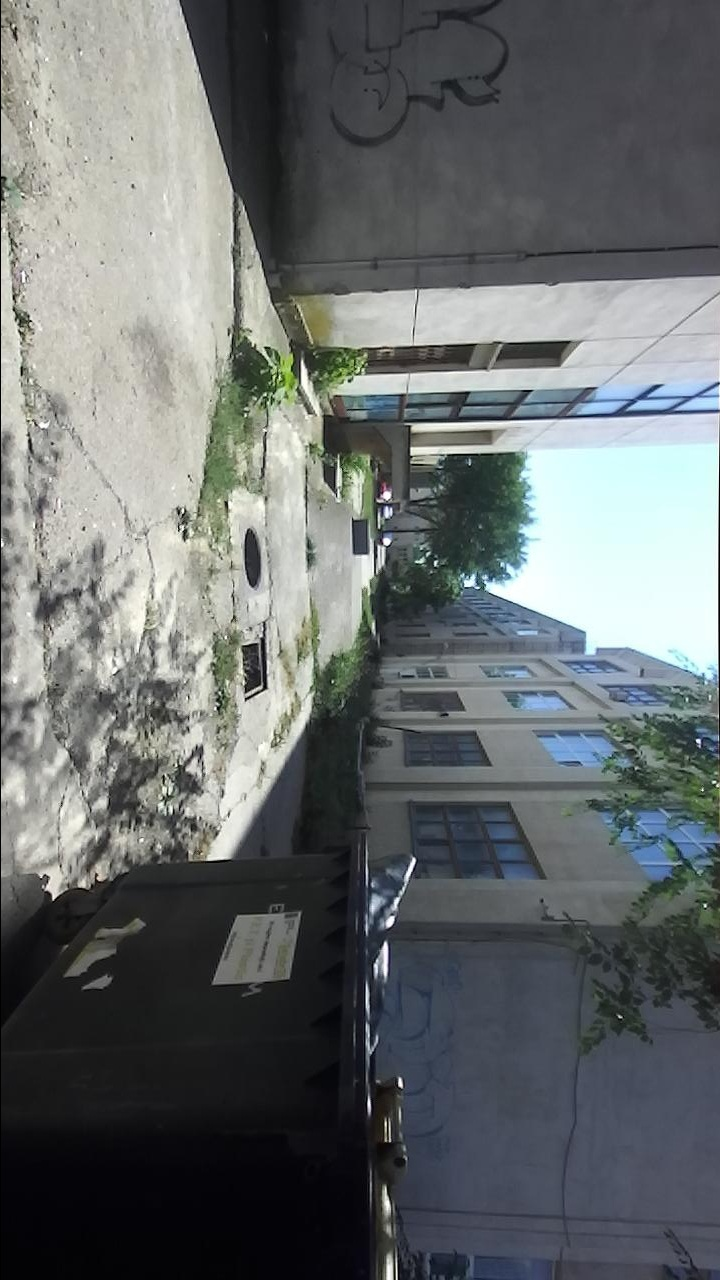drain: (240, 634, 271, 706), (240, 521, 263, 596)
